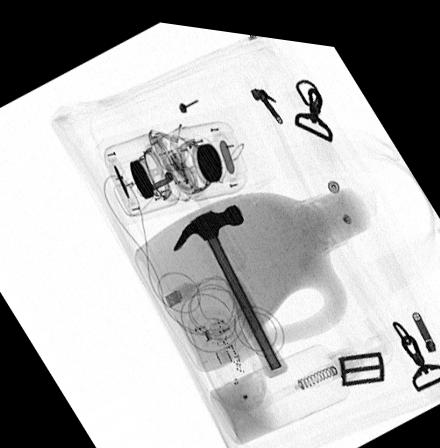Hammer: (172, 196, 287, 370)
